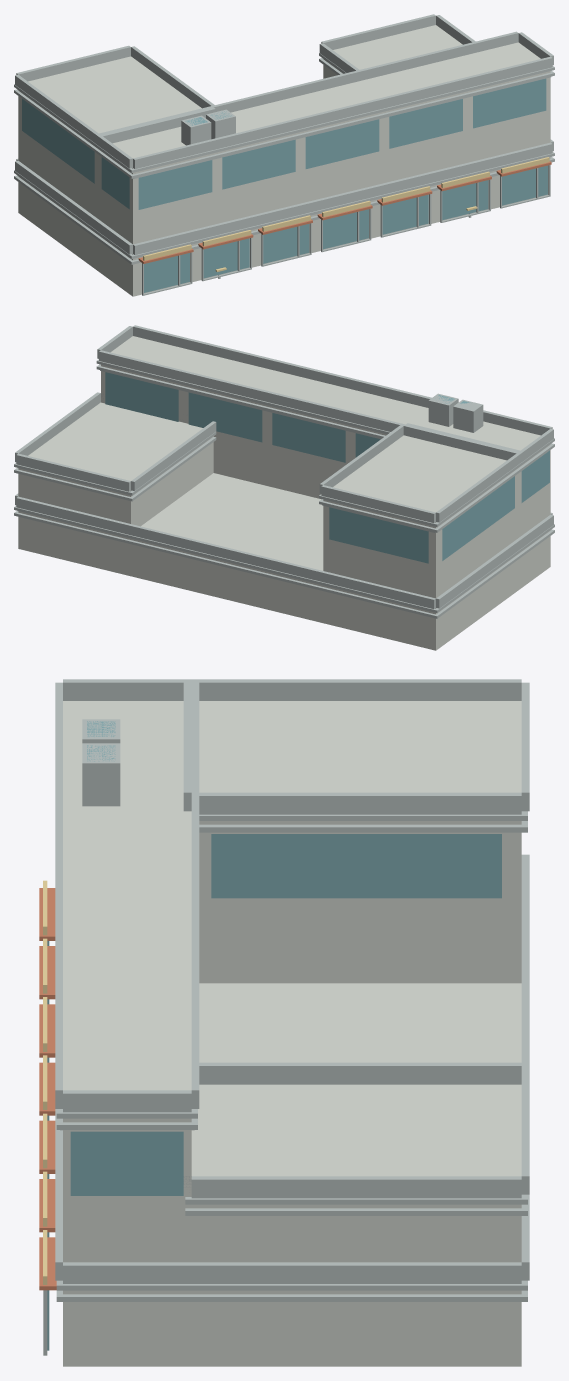
Rendered from commercial_4x2_court.glb.
3 renders of one model, top to bottom at view 1: azimuth 30°, elevation 25°; view 2: azimuth 150°, elevation 25°; view 3: azimuth 270°, elevation 25°, orthographic. The views are drawn at different scales.
Visible parts, largest first — view 1: commercial_4x2_court_0; view 2: commercial_4x2_court_0; view 3: commercial_4x2_court_0.
Part boxes in pixels (x1,y1,x2,y2): commercial_4x2_court_0: (14, 14, 554, 296); commercial_4x2_court_0: (14, 325, 554, 650); commercial_4x2_court_0: (39, 679, 529, 1366).
Size of the model in its own units: 31 by 10.5 by 15.5.
